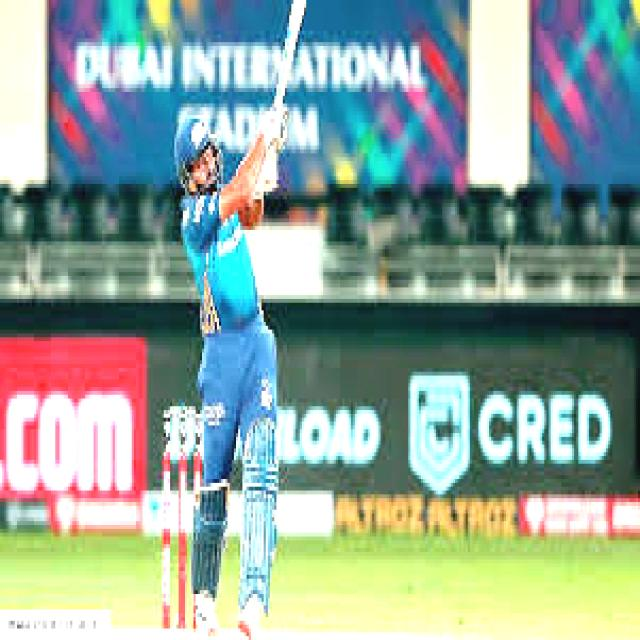toe: (288, 0, 310, 16)
